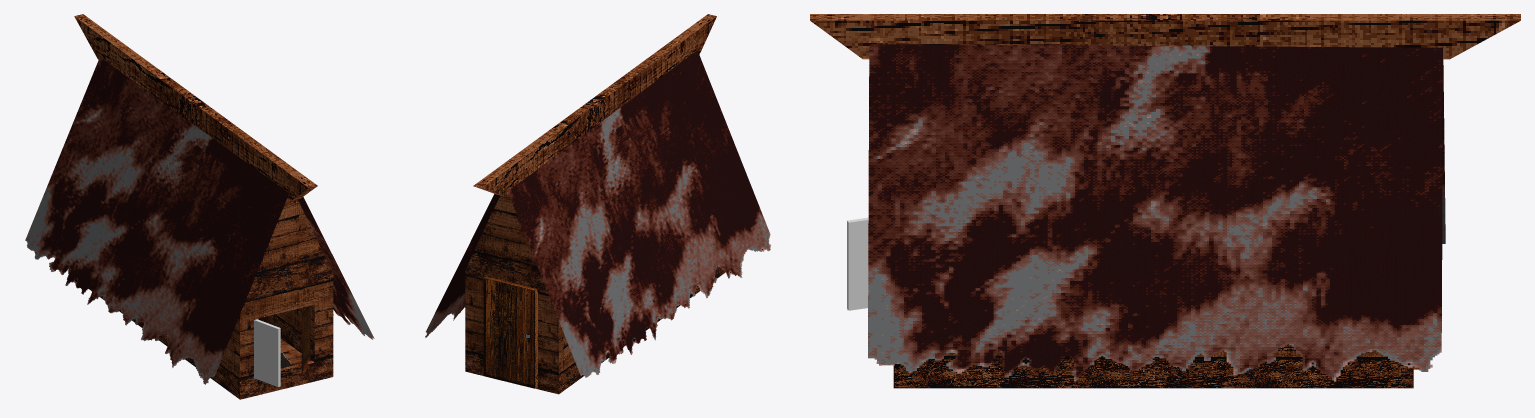
File: DuchampaHOUSE.glb
3 renders of one model, left to right at view 1: azimuth 30°, elevation 25°; view 2: azimuth 150°, elevation 25°; view 3: azimuth 270°, elevation 25°, orthographic. The views are drawn at different scales.
Visible parts, largest first — view 1: house1, house-col, house, colisão-colonly.001, plano; view 2: house1, house-col, door-col, house; view 3: house, house-col, colisão-colonly.001.
Boxes of the visible parts, bbox=[...] form: house1: bbox=[25, 57, 289, 384]; house-col: bbox=[68, 14, 333, 399]; house: bbox=[298, 197, 374, 339]; colisão-colonly.001: bbox=[254, 319, 280, 387]; plano: bbox=[301, 305, 310, 372]; house1: bbox=[508, 50, 770, 377]; house-col: bbox=[465, 14, 725, 394]; door-col: bbox=[483, 276, 537, 388]; house: bbox=[425, 194, 500, 337]; house: bbox=[868, 44, 1442, 381]; house-col: bbox=[810, 14, 1520, 388]; colisão-colonly.001: bbox=[847, 217, 868, 310].
Size of what is drawn, in the model's own units: 26.26 by 30.86 by 59.01.
11 materials, 11 textured.
